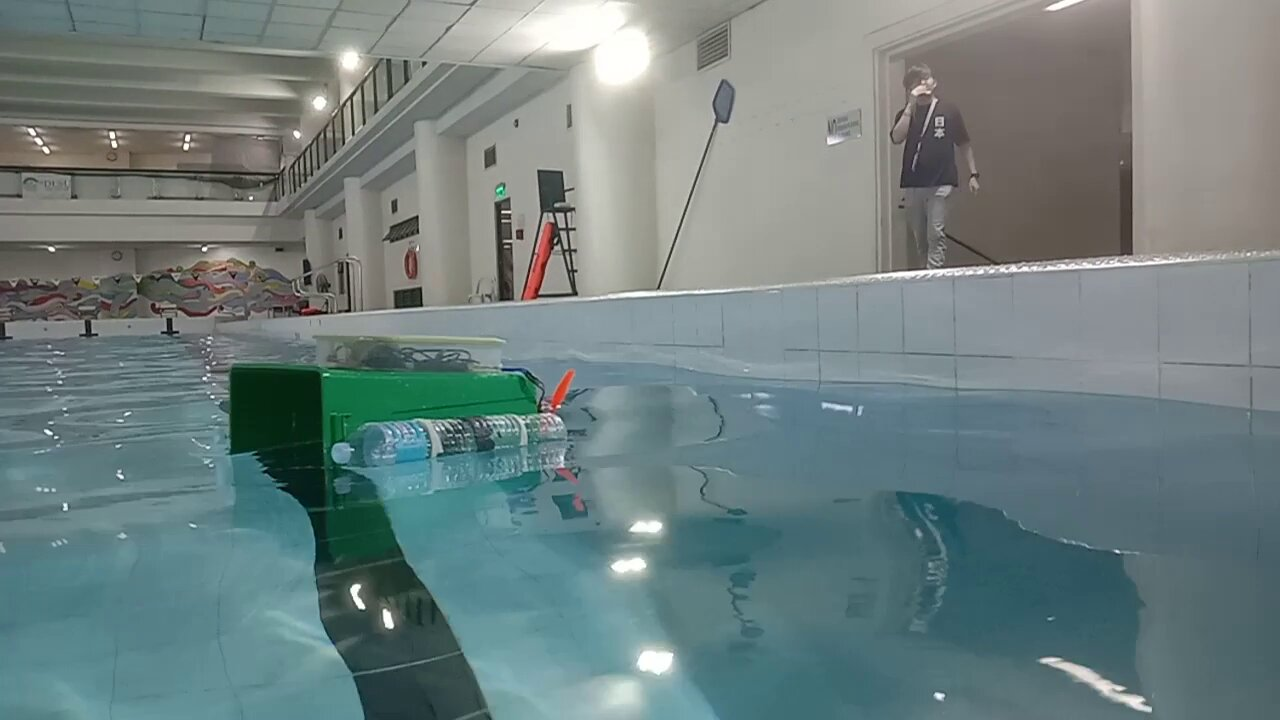drone: (230, 336, 576, 470)
